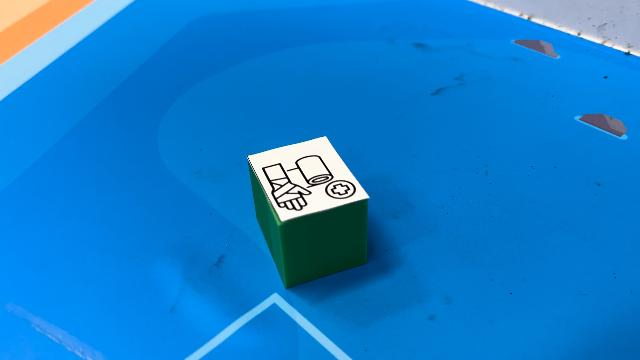bandage: (246, 135, 370, 289)
